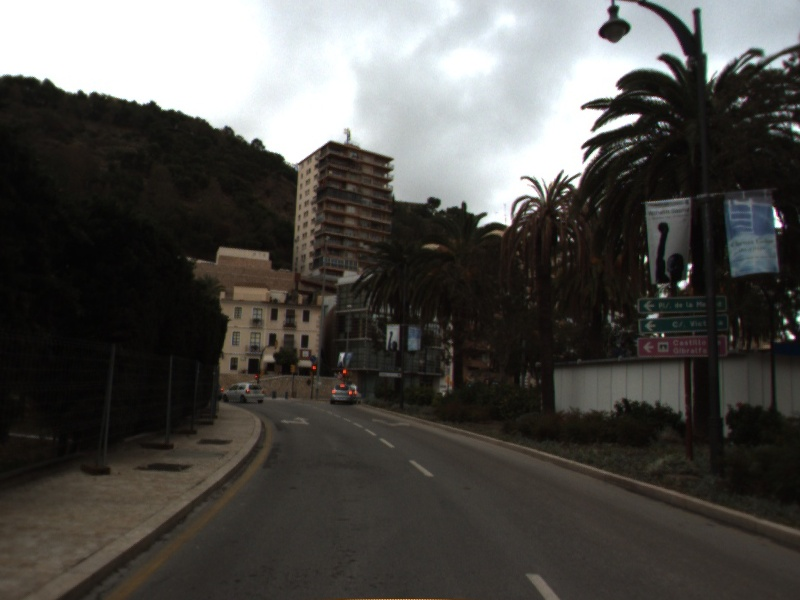STRAIGHT_LEFT: (278, 414, 313, 427)
STRAIGHT_RIGHT: (370, 415, 414, 429)
